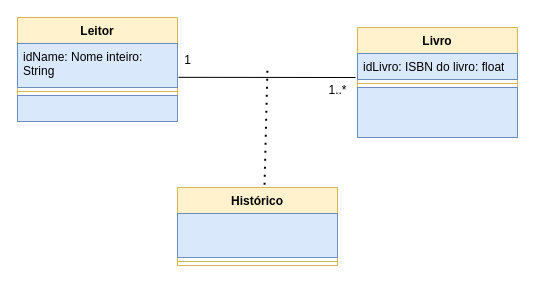
Some shapes in this 535 by 283 pixel diagram are drawn without their labels. The shapes that lost their labels are listed below. From the top down, each one's centre as x and y in pixels, then its label:
At point (97, 108): "validarNome()".
At point (437, 112): "finalizarEmprestimo() finalizarDevolucao()".
At point (257, 235): "idLivro idName".
